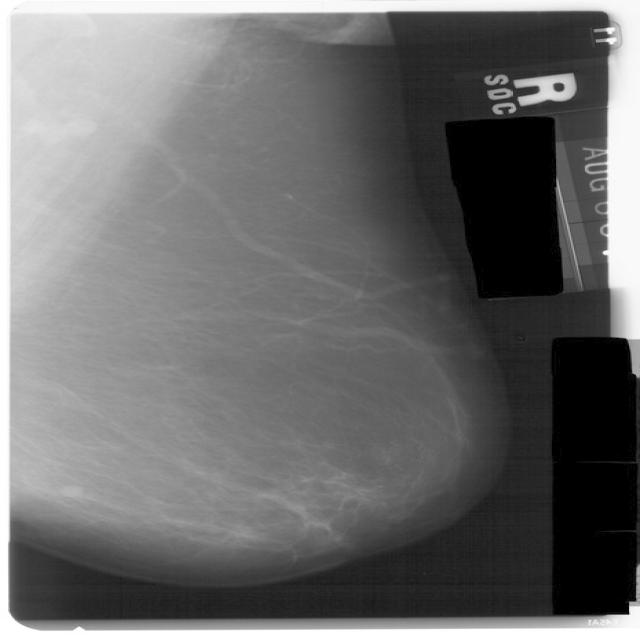tumour: (59, 482, 88, 498)
